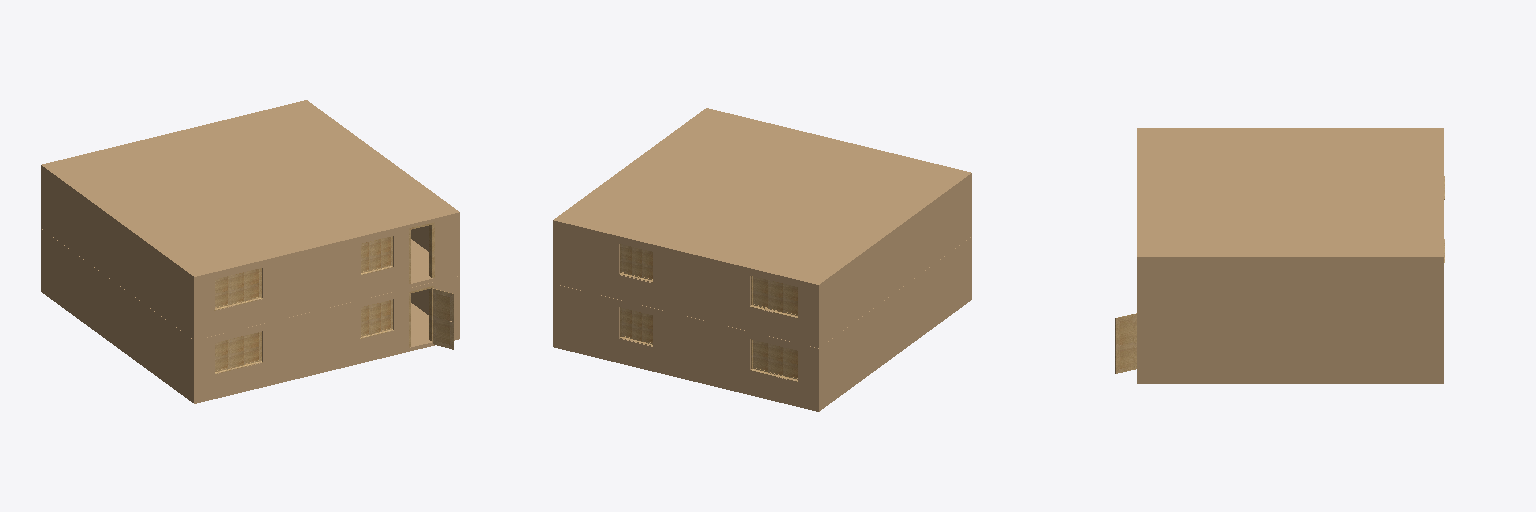
3 views of the same model, side by side, from view 1: azimuth 30°, elevation 25°; view 2: azimuth 150°, elevation 25°; view 3: azimuth 270°, elevation 25° (orthographic).
Visible parts, largest first — view 1: П�_�_�_к�_�_�_ь001, Cube001, Cube, Panel_Panel_003; view 2: П�_�_�_к�_�_�_ь001, Cube001, Cube; view 3: П�_�_�_к�_�_�_ь001, Cube001, Cube, Panel_Panel_003.
Part boxes in pixels (x1,y1,x2,y2): П�_�_�_к�_�_�_ь001: (45, 102, 455, 275); Cube001: (41, 100, 459, 340); Cube: (41, 229, 459, 403); Panel_Panel_003: (433, 288, 453, 349); П�_�_�_к�_�_�_ь001: (557, 109, 967, 282); Cube001: (553, 108, 971, 347); Cube: (553, 237, 971, 411); П�_�_�_к�_�_�_ь001: (1140, 129, 1441, 255); Cube001: (1137, 128, 1443, 320); Cube: (1137, 321, 1443, 383); Panel_Panel_003: (1115, 313, 1136, 373).
Bounding box in the file's own units: 10 × 4.56 × 10.73.
Materials: 1 (1 with a texture image).